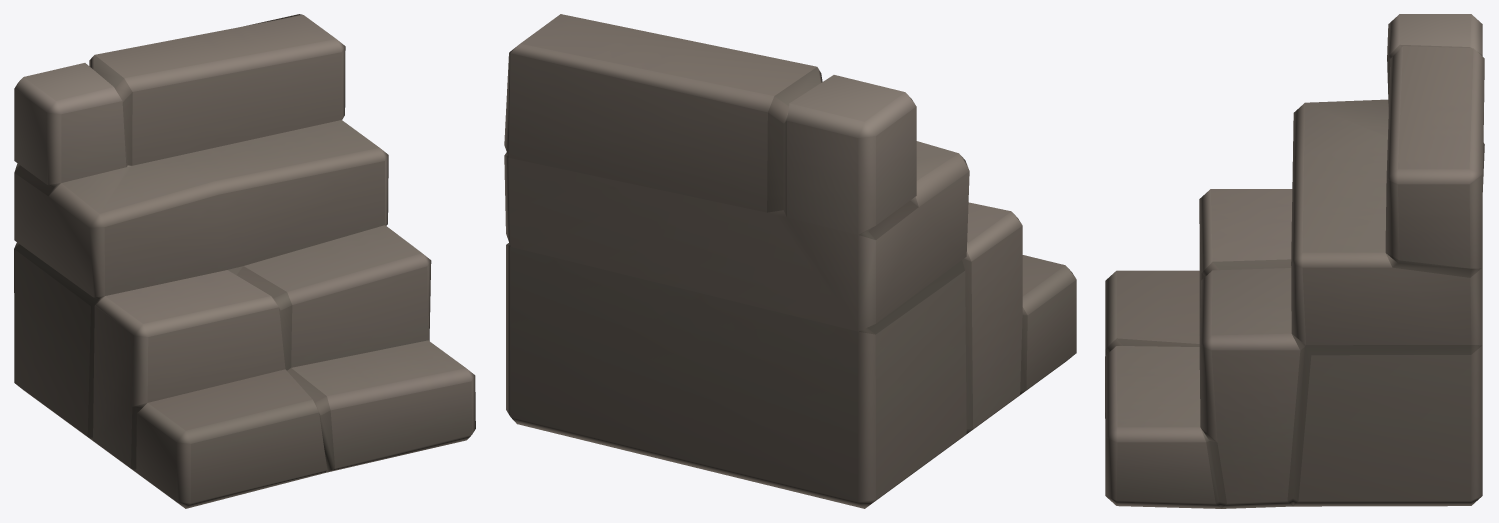
Rendered from elf_stairs_shade_5.fbx.
The picture shows the model from 3 angles, left to right: view 1: azimuth 30°, elevation 25°; view 2: azimuth 150°, elevation 25°; view 3: azimuth 270°, elevation 25°; orthographic projection. The views are drawn at different scales.
Visible parts, largest first — view 1: elf_stairs_shade_5; view 2: elf_stairs_shade_5; view 3: elf_stairs_shade_5.
Part boxes in pixels (box(x1,y1,x2,y2)): elf_stairs_shade_5: box(14, 14, 475, 508); elf_stairs_shade_5: box(504, 14, 1076, 508); elf_stairs_shade_5: box(1105, 14, 1484, 508).
Size of the model in its own units: 101 by 102 by 101.
